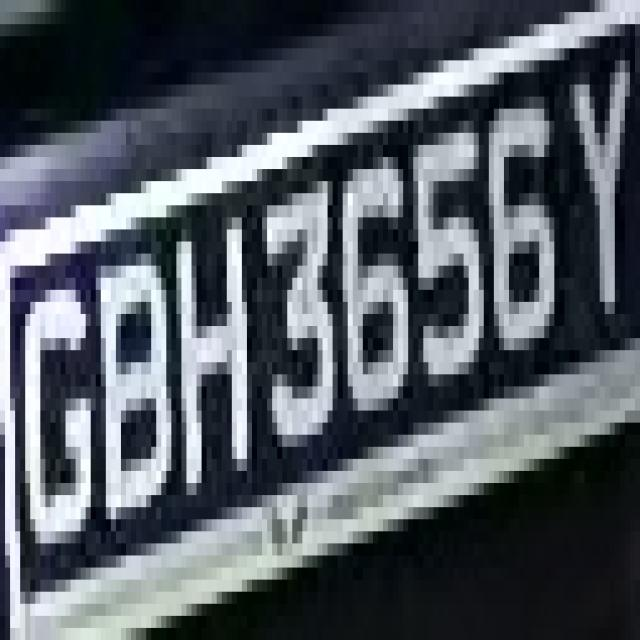3: (247, 169, 333, 483)
5: (398, 109, 504, 422)
6: (479, 61, 559, 374), (323, 120, 408, 410)
B: (101, 193, 166, 495)
G: (15, 254, 101, 544)
H: (151, 205, 252, 507)
Y: (559, 36, 635, 326)
